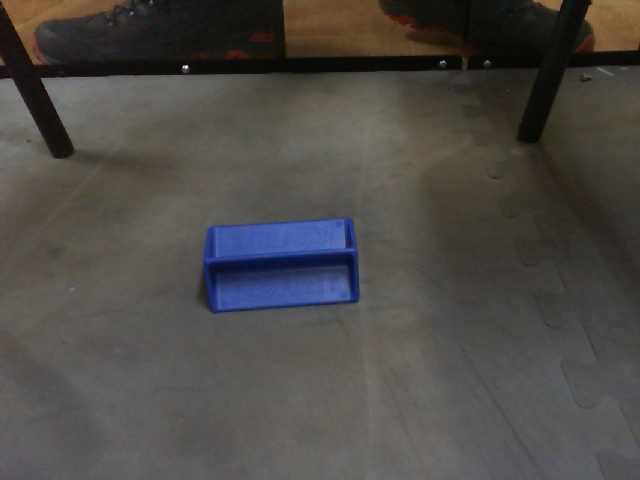BlueSample: (197, 214, 365, 315)
